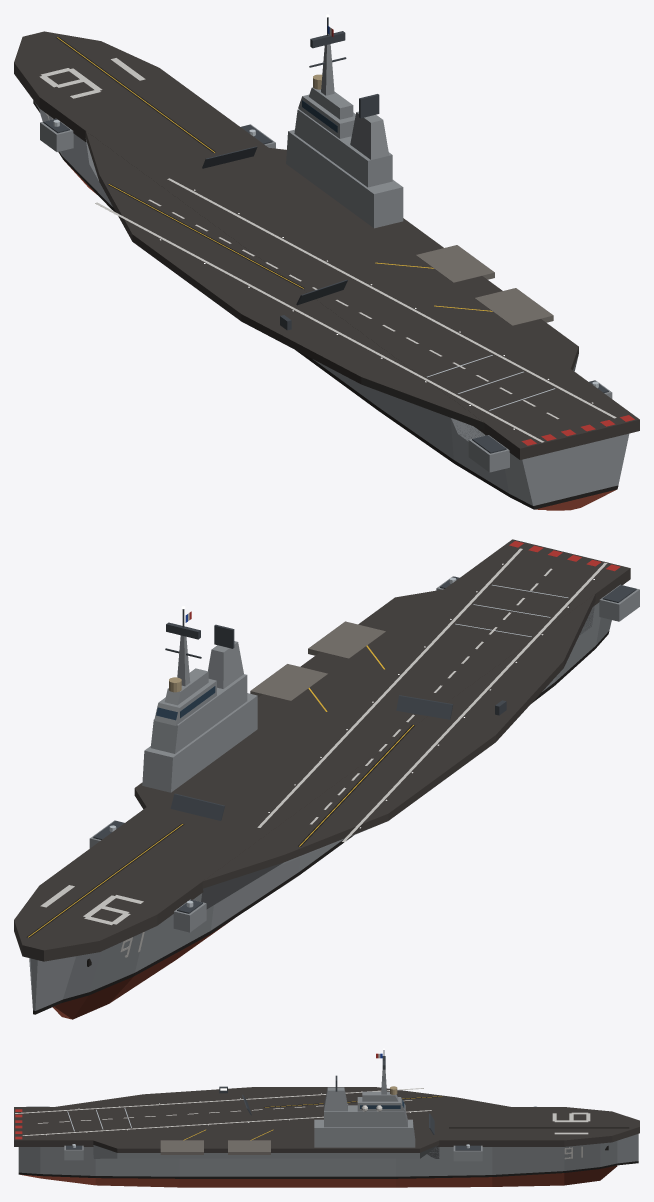
File: carrier.glb
The picture shows the model from 3 angles, top to bottom: view 1: azimuth 30°, elevation 25°; view 2: azimuth 150°, elevation 25°; view 3: azimuth 270°, elevation 25°; orthographic projection. The views are drawn at different scales.
Visible parts, largest first — view 1: deck, hull, island; view 2: deck, hull, island; view 3: deck, hull, island.
Boxes of the visible parts, x1,y1,x2,y2 form: deck: [14, 31, 639, 459]; hull: [33, 100, 629, 510]; island: [286, 14, 403, 228]; deck: [14, 539, 630, 961]; hull: [29, 576, 639, 1019]; island: [142, 606, 257, 792]; deck: [14, 1086, 639, 1154]; hull: [18, 1106, 638, 1187]; island: [314, 1048, 415, 1147].
Bounding box in the file's own units: 64 × 70.5 × 260.
